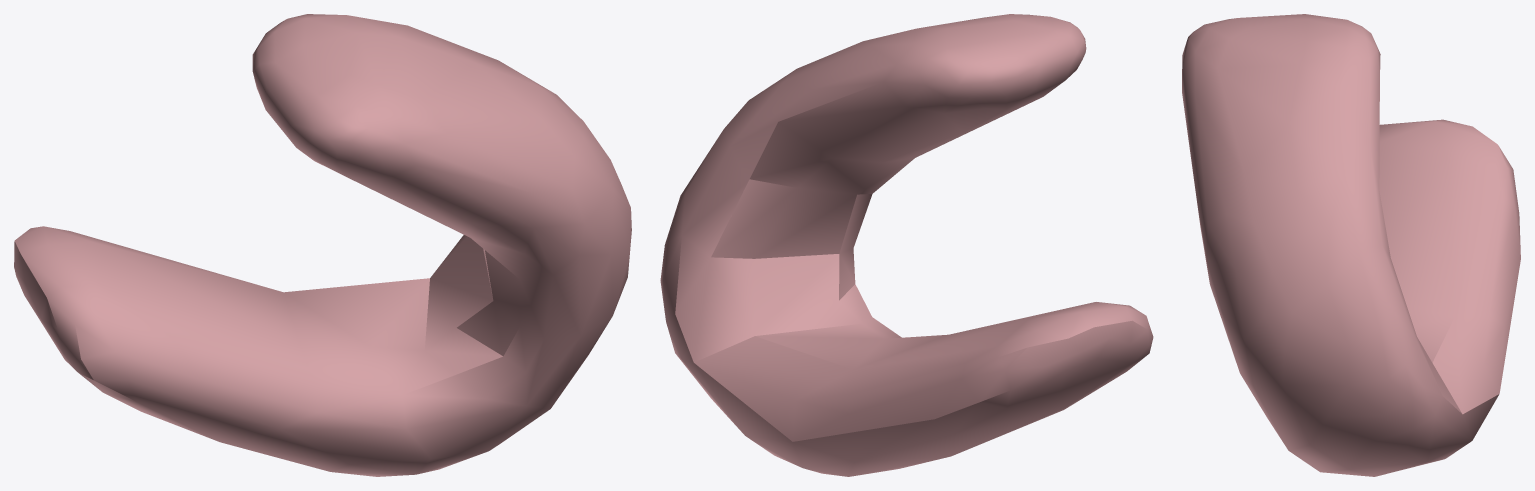
File: fma49068_mm2203.glb
3 renders of one model, left to right at view 1: azimuth 30°, elevation 25°; view 2: azimuth 150°, elevation 25°; view 3: azimuth 270°, elevation 25°, orthographic. The views are drawn at different scales.
Parts seen in each view (by area): view 1: FMA49068_MM2203; view 2: FMA49068_MM2203; view 3: FMA49068_MM2203.
Boxes of the visible parts, x1,y1,x2,y2 form: FMA49068_MM2203: (14,14,631,476); FMA49068_MM2203: (660,14,1153,476); FMA49068_MM2203: (1182,14,1520,476).
Bounding box in the file's own units: 0.00424 × 0.0036 × 0.00281.
